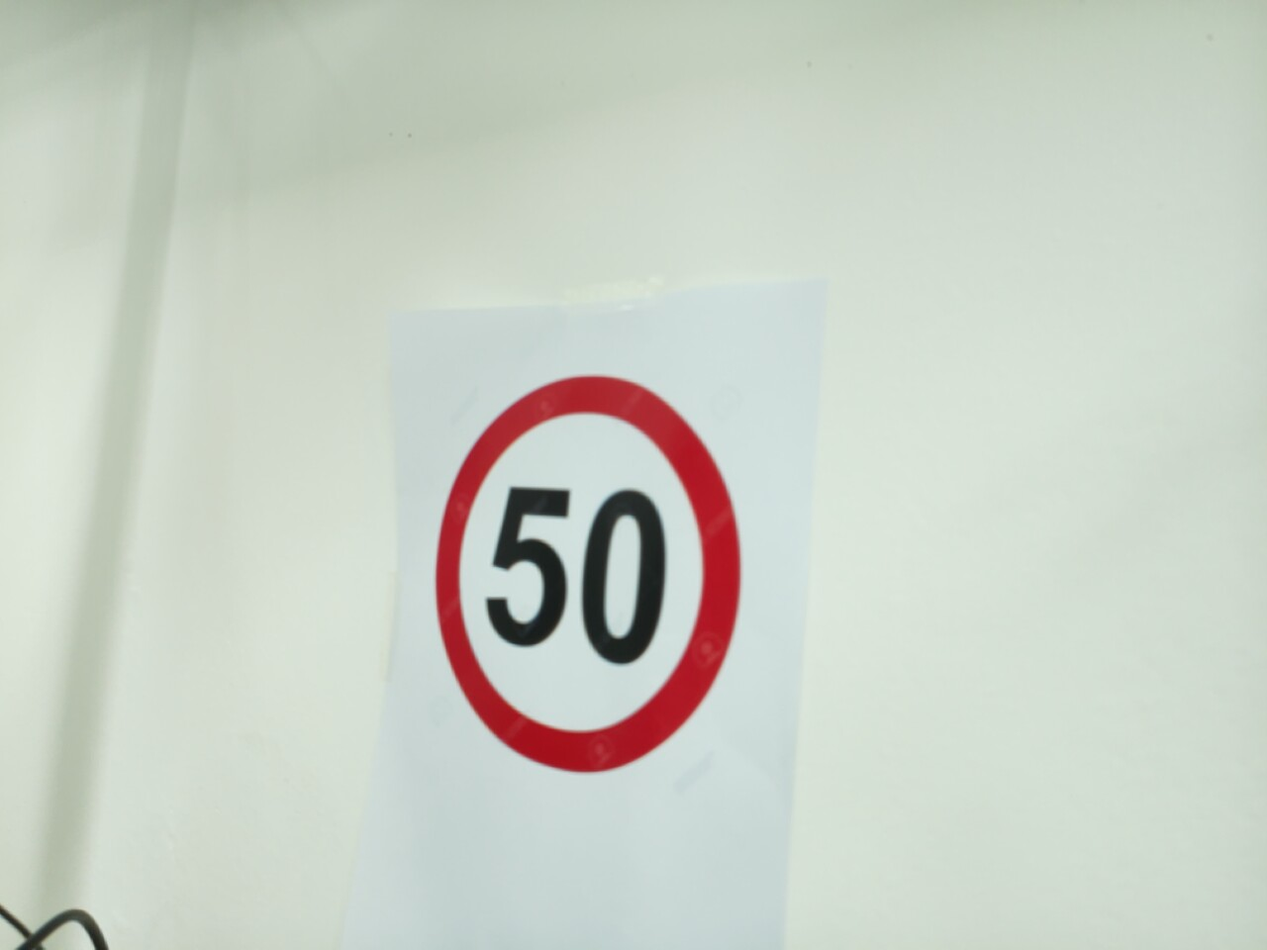speed_50: (426, 364, 750, 785)
